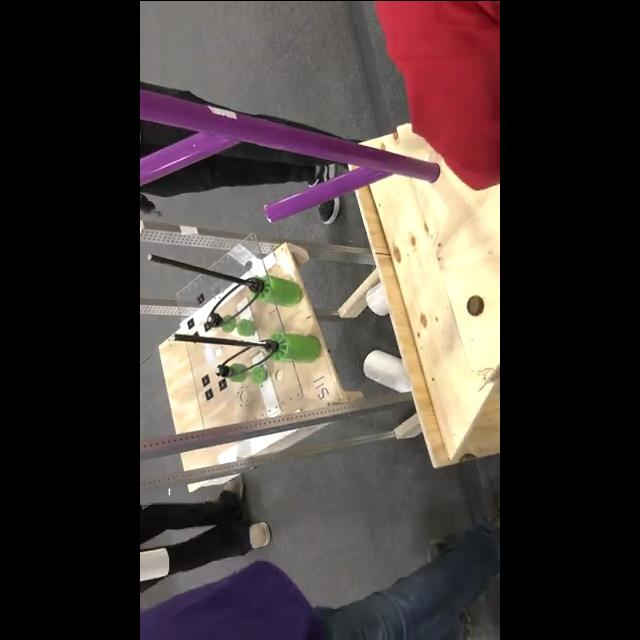CORAL: (361, 349, 411, 393), (364, 283, 390, 315)
